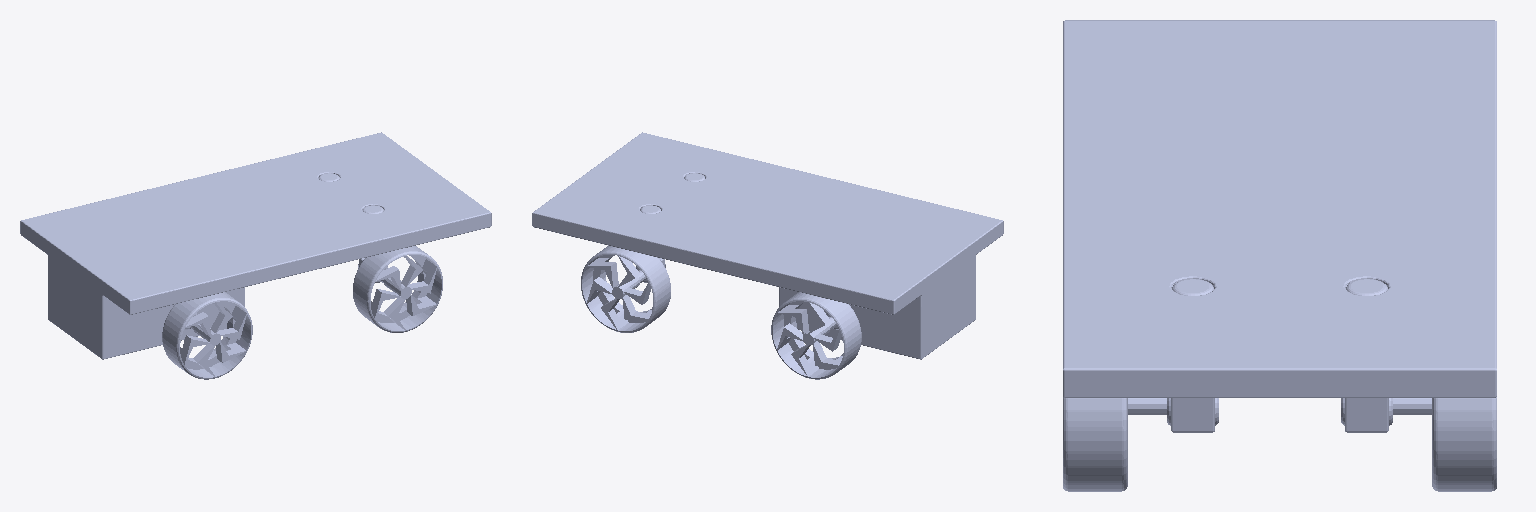
robot.urdf — car:
<?xml version="1.0" encoding="utf-8"?>
<!-- =================================================================================== -->
<!-- |    This document was autogenerated by xacro from my_robot_integration.urdf.xacro | -->
<!-- |    EDITING THIS FILE BY HAND IS NOT RECOMMENDED                                 | -->
<!-- =================================================================================== -->
<!-- Name your robot here -->
<robot name="car">
  <link name="dummy"/>
  <link name="chassis">
    <inertial>
      <origin rpy="0 0 0" xyz="-0.13485 -1.1234E-17 0.18835"/>
      <mass value="34.466"/>
      <inertia ixx="0.61222" ixy="1.4442E-16" ixz="-0.25305" iyy="2.4932" iyz="-2.8489E-17" izz="2.8529"/>
    </inertial>
    <visual>
      <origin rpy="0 0 0" xyz="0 0 0"/>
      <geometry>
        <mesh filename="package://car/meshes/chassis.STL"/>
      </geometry>
      <material name="">
        <color rgba="0.79216 0.81961 0.93333 1"/>
      </material>
    </visual>
    <collision>
      <origin rpy="0 0 0" xyz="0 0 0"/>
      <geometry>
        <mesh filename="package://car/meshes/chassis.STL"/>
      </geometry>
    </collision>
  </link>
  <link name="fr_steer">
    <inertial>
      <origin rpy="0 0 0" xyz="1.1102E-16 -2.3592E-16 0.066279"/>
      <mass value="0.1817"/>
      <inertia ixx="0.00057325" ixy="5.6093E-21" ixz="-1.9024E-20" iyy="0.00057787" iyz="1.8306E-18" izz="5.889E-05"/>
    </inertial>
    <visual>
      <origin rpy="0 0 0" xyz="0 0 0"/>
      <geometry>
        <mesh filename="package://car/meshes/fr_steer.STL"/>
      </geometry>
      <material name="">
        <color rgba="0.79216 0.81961 0.93333 1"/>
      </material>
    </visual>
    <collision>
      <origin rpy="0 0 0" xyz="0 0 0"/>
      <geometry>
        <mesh filename="package://car/meshes/fr_steer.STL"/>
      </geometry>
    </collision>
  </link>
  <joint name="dummy_joint" type="fixed">
    <parent link="dummy"/>
    <child link="chassis"/>
  </joint>
  <joint name="fr_steer_joint" type="revolute">
    <origin rpy="0 0 0" xyz="0.254 -0.1016 0.0762"/>
    <parent link="chassis"/>
    <child link="fr_steer"/>
    <axis xyz="0 0 1"/>
    <limit effort="0" lower="0" upper="0" velocity="0"/>
  </joint>
  <link name="fr_wheel">
    <inertial>
      <origin rpy="0 0 0" xyz="4.996E-16 -0.10298 -5.5511E-16"/>
      <mass value="0.83238"/>
      <inertia ixx="0.0037033" ixy="1.183E-17" ixz="3.3604E-18" iyy="0.0053719" iyz="4.3262E-18" izz="0.0037033"/>
    </inertial>
    <visual>
      <origin rpy="0 0 0" xyz="0 0 0"/>
      <geometry>
        <mesh filename="package://car/meshes/fr_wheel.STL"/>
      </geometry>
      <material name="">
        <color rgba="0.79216 0.81961 0.93333 1"/>
      </material>
    </visual>
    <collision>
      <origin rpy="0 0 0" xyz="0 0 0"/>
      <geometry>
        <mesh filename="package://car/meshes/fr_wheel.STL"/>
      </geometry>
    </collision>
  </link>
  <joint name="fr_wheel_joint" type="continuous">
    <origin rpy="0 0 0" xyz="0 0 0.0254"/>
    <parent link="fr_steer"/>
    <child link="fr_wheel"/>
    <axis xyz="0 -1 0"/>
  </joint>
  <link name="fl_steer">
    <inertial>
      <origin rpy="0 0 0" xyz="-1.1102E-16 -2.3592E-16 0.066279"/>
      <mass value="0.1817"/>
      <inertia ixx="0.00057325" ixy="-5.2862E-21" ixz="-4.0214E-20" iyy="0.00057787" iyz="1.8525E-18" izz="5.889E-05"/>
    </inertial>
    <visual>
      <origin rpy="0 0 0" xyz="0 0 0"/>
      <geometry>
        <mesh filename="package://car/meshes/fl_steer.STL"/>
      </geometry>
      <material name="">
        <color rgba="0.79216 0.81961 0.93333 1"/>
      </material>
    </visual>
    <collision>
      <origin rpy="0 0 0" xyz="0 0 0"/>
      <geometry>
        <mesh filename="package://car/meshes/fl_steer.STL"/>
      </geometry>
    </collision>
  </link>
  <joint name="fl_steer_joint" type="revolute">
    <origin rpy="0 0 0" xyz="0.254 0.1016 0.0762"/>
    <parent link="chassis"/>
    <child link="fl_steer"/>
    <axis xyz="0 0 1"/>
    <limit effort="0" lower="0" upper="0" velocity="0"/>
  </joint>
  <link name="fl_wheel">
    <inertial>
      <origin rpy="0 0 0" xyz="5.5511E-16 0.10298 1.3184E-15"/>
      <mass value="0.83238"/>
      <inertia ixx="0.0037033" ixy="-1.1103E-17" ixz="-3.4411E-18" iyy="0.0053719" iyz="1.5824E-17" izz="0.0037033"/>
    </inertial>
    <visual>
      <origin rpy="0 0 0" xyz="0 0 0"/>
      <geometry>
        <mesh filename="package://car/meshes/fl_wheel.STL"/>
      </geometry>
      <material name="">
        <color rgba="0.79216 0.81961 0.93333 1"/>
      </material>
    </visual>
    <collision>
      <origin rpy="0 0 0" xyz="0 0 0"/>
      <geometry>
        <mesh filename="package://car/meshes/fl_wheel.STL"/>
      </geometry>
    </collision>
  </link>
  <joint name="fl_wheel_joint" type="continuous">
    <origin rpy="0 0 0" xyz="0 0 0.0254"/>
    <parent link="fl_steer"/>
    <child link="fl_wheel"/>
    <axis xyz="0 1 0"/>
  </joint>
  <link name="rear_axle">
    <inertial>
      <origin rpy="0 0 0" xyz="5.5511E-17 2.0893E-16 2.2204E-16"/>
      <mass value="1.7238"/>
      <inertia ixx="0.077136" ixy="2.0778E-16" ixz="-4.107E-19" iyy="0.010745" iyz="-1.6185E-16" izz="0.077136"/>
    </inertial>
    <visual>
      <origin rpy="0 0 0" xyz="0 0 0"/>
      <geometry>
        <mesh filename="package://car/meshes/rear_axle.STL"/>
      </geometry>
      <material name="">
        <color rgba="0.79216 0.81961 0.93333 1"/>
      </material>
    </visual>
    <collision>
      <origin rpy="0 0 0" xyz="0 0 0"/>
      <geometry>
        <mesh filename="package://car/meshes/rear_axle.STL"/>
      </geometry>
    </collision>
  </link>
  <joint name="rear_axle_joint" type="continuous">
    <origin rpy="0 0 0" xyz="-0.254 0 0.1016"/>
    <parent link="chassis"/>
    <child link="rear_axle"/>
    <axis xyz="0 -1 0"/>
  </joint>
  <transmission name="fr_steer">
    <type>transmission_interface/SimpleTransmission</type>
    <actuator name="motor1">
      <hardwareInterface>hardware_interface/EffortJointInterface</hardwareInterface>
      <mechanicalReduction>1</mechanicalReduction>
    </actuator>
    <joint name="fr_steer_joint">
      <hardwareInterface>hardware_interface/EffortJointInterface</hardwareInterface>
    </joint>
  </transmission>
  <transmission name="fl_steer">
    <type>transmission_interface/SimpleTransmission</type>
    <actuator name="motor2">
      <hardwareInterface>hardware_interface/EffortJointInterface</hardwareInterface>
      <mechanicalReduction>1</mechanicalReduction>
    </actuator>
    <joint name="fl_steer_joint">
      <hardwareInterface>hardware_interface/EffortJointInterface</hardwareInterface>
    </joint>
  </transmission>
  <transmission name="rear_axle">
    <type>transmission_interface/SimpleTransmission</type>
    <actuator name="motor3">
      <hardwareInterface>hardware_interface/EffortJointInterface</hardwareInterface>
      <mechanicalReduction>1</mechanicalReduction>
    </actuator>
    <joint name="rear_axle_joint">
      <hardwareInterface>hardware_interface/EffortJointInterface</hardwareInterface>
    </joint>
  </transmission>
  <transmission name="fr_wheel">
    <type>transmission_interface/SimpleTransmission</type>
    <actuator name="motor4">
      <hardwareInterface>hardware_interface/EffortJointInterface</hardwareInterface>
      <mechanicalReduction>1</mechanicalReduction>
    </actuator>
    <joint name="fr_wheel_joint">
      <hardwareInterface>hardware_interface/EffortJointInterface</hardwareInterface>
    </joint>
  </transmission>
  <transmission name="fl_wheel">
    <type>transmission_interface/SimpleTransmission</type>
    <actuator name="motor5">
      <hardwareInterface>hardware_interface/EffortJointInterface</hardwareInterface>
      <mechanicalReduction>1</mechanicalReduction>
    </actuator>
    <joint name="fl_wheel_joint">
      <hardwareInterface>hardware_interface/EffortJointInterface</hardwareInterface>
    </joint>
  </transmission>
  <link name="base_laser">
    <inertial>
      <origin rpy="0 0 0" xyz="-0.00029774 0.0066667 0.00013047"/>
      <mass value="0.15717"/>
      <inertia ixx="6.7885E-05" ixy="-1.3987E-07" ixz="-8.1554E-07" iyy="0.00013173" iyz="-9.0932E-08" izz="7.1972E-05"/>
    </inertial>
    <visual>
      <origin rpy="0 0 0" xyz="0 0 0"/>
      <geometry>
        <mesh filename="package://ydlidar_ros/meshes/ydlidar.dae"/>
      </geometry>
      <material name="">
        <color rgba="0.64706 0.61961 0.58824 1"/>
      </material>
    </visual>
    <collision>
      <origin rpy="0 0 0" xyz="0 0 0"/>
      <geometry>
        <mesh filename="package://ydlidar_ros/meshes/ydlidar.dae"/>
      </geometry>
    </collision>
  </link>
  <link name="laser_frame">
    <inertial>
      <origin rpy="0 0 0" xyz="-0.00036659 0.00064155 -0.00027052"/>
      <mass value="0.25482"/>
      <inertia ixx="8.9194E-05" ixy="1.8116E-07" ixz="3.6435E-08" iyy="0.00018279" iyz="2.423E-07" izz="0.00011103"/>
    </inertial>
    <!--visual>
      <origin
        xyz="0 0 0"
        rpy="0 0 0" />
      <geometry>
        <mesh
          filename="package://ydlidar_ros/meshes/ydlidar.dae" />
      </geometry>
      <material
        name="">
        <color
          rgba="0.64706 0.61961 0.58824 1" />
      </material>
    </visual-->
    <!--collision>
      <origin
        xyz="0 0 0"
        rpy="0 0 0" />
      <geometry>
        <mesh
          filename="package://ydlidar_ros/meshes/ydlidar.dae" />
      </geometry>
    </collision-->
  </link>
  <joint name="laser_joint" type="fixed">
    <origin rpy="0 0 0" xyz="0 0 0.03172"/>
    <parent link="base_laser"/>
    <child link="laser_frame"/>
    <axis xyz="0 0 0"/>
  </joint>
  <!-- Add your gazebo sensors here -->
  <gazebo reference="base_laser">
    <!-- <gravity>true</gravity> -->
    <!-- Gazebo has fixed set of Sensors types. Check them out here <> -->
    <sensor name="laser" type="ray">
      <!-- Add in your sensor characteristics -->
      <pose> 0 0 0 0 0 0 </pose>
      <visualise>true</visualise>
      <update_rate>40</update_rate>
      <!-- <always_on>true</always_on> -->
      <ray>
        <scan>
          <horizontal>
            <samples>720</samples>
            <resolution>1</resolution>
            <min_angle>-1.570796</min_angle>
            <max_angle>1.570796</max_angle>
          </horizontal>
        </scan>
        <range>
          <min>0.10</min>
          <max>30.0</max>
          <resolution>0.01</resolution>
        </range>
        <noise>
          <type>gaussian</type>
          <mean>0.0</mean>
          <stddev>0.01</stddev>
        </noise>
      </ray>
      <plugin filename="libgazebo_ros_laser.so" name="gazebo_ros_head_hokuyo_controller">
        <!-- Use topic name as /my_robot/scan -->
        <topicName>/car/scan</topicName>
        <frameName>laser_frame</frameName>
      </plugin>
    </sensor>
  </gazebo>
  <!--  Gazebo plugin for control here is already added for you -->
  <gazebo>
    <plugin filename="libgazebo_ros_control.so" name="gazebo_ros_control">
      <robotNamespace>/car</robotNamespace>
      <robotSimType>gazebo_ros_control/DefaultRobotHWSim</robotSimType>
      <legacyModeNS>true</legacyModeNS>
    </plugin>
  </gazebo>
  <!-- Create a joint between your robot and sensor -->
  <joint name="car_lidar" type="fixed">
    <axis xyz="0 1 0"/>
    <parent link="chassis"/>
    <child link="base_laser"/>
    <origin rpy="1.570796 0 0" xyz="0.254 -0.254 0"/>
  </joint>
</robot>

--- Facts derived from the render (not from the file) ---
Views: 3 orthographic renders of the robot side by side, from view 1: azimuth 30°, elevation 25°; view 2: azimuth 150°, elevation 25°; view 3: azimuth 270°, elevation 25°.
Model car with 9 links and 8 joints (2 revolute, 3 continuous, 3 fixed), rooted at dummy, posed every joint at zero.
Links seen in each view (by area): view 1: chassis, rear_axle, fr_wheel; view 2: chassis, fl_wheel, rear_axle; view 3: chassis, fr_wheel, fl_wheel, fr_steer, fl_steer.
Link boxes in pixels (x1,y1,x2,y2): chassis: (20,132,491,359); rear_axle: (162,292,252,379); fr_wheel: (353,246,442,332); chassis: (532,132,1003,359); fl_wheel: (581,246,670,332); rear_axle: (771,292,861,379); chassis: (1063,20,1496,397); fr_wheel: (1063,397,1218,491); fl_wheel: (1341,397,1496,491); fr_steer: (1171,279,1214,432); fl_steer: (1345,279,1388,432).
Size in the robot's own frame: 0.9652 by 0.508 by 0.254 metres.
6 mesh visuals loaded from 7 distinct referenced files (6 binary STL); not drawn: 1 (reference not matched to a file when rendering).
